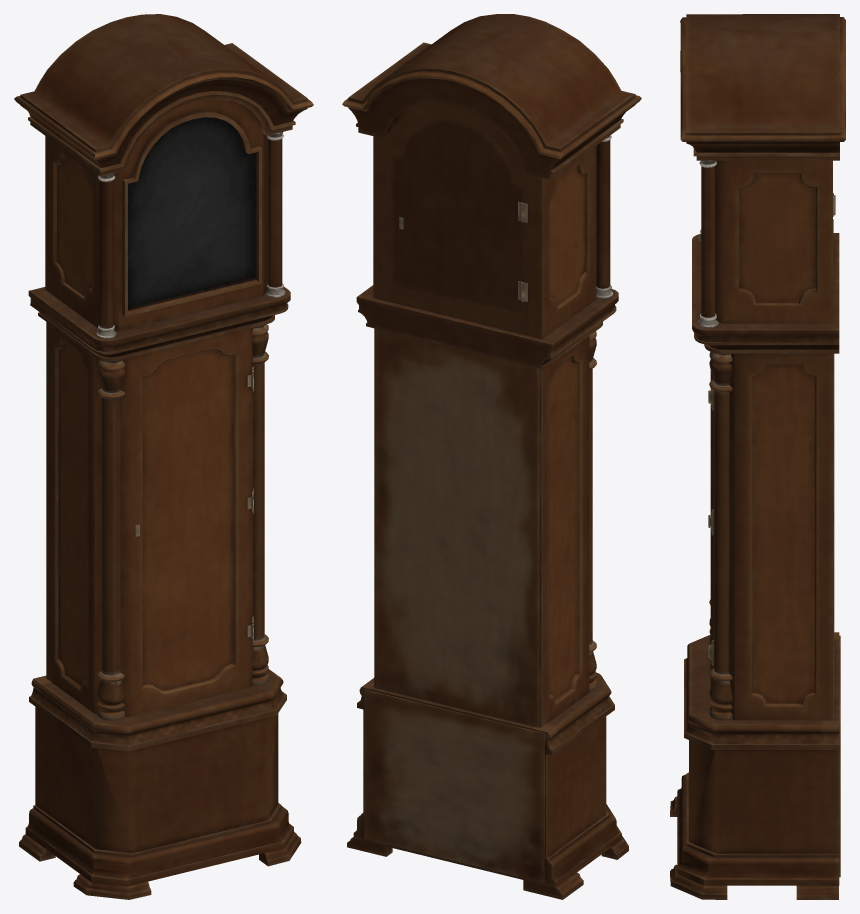
File: clock_grandfather.glb
3 renders of one model, left to right at view 1: azimuth 30°, elevation 25°; view 2: azimuth 150°, elevation 25°; view 3: azimuth 270°, elevation 25°, orthographic. The views are drawn at different scales.
Parts seen in each view (by area): view 1: mesh; view 2: mesh; view 3: mesh.
Boxes of the visible parts, <box> form: mesh: <box>14,14,313,899</box>; mesh: <box>342,14,641,899</box>; mesh: <box>670,14,845,899</box>.
Size of the model in its own units: 0.6255 by 2.19 by 0.4265.
1 material, 1 textured.
